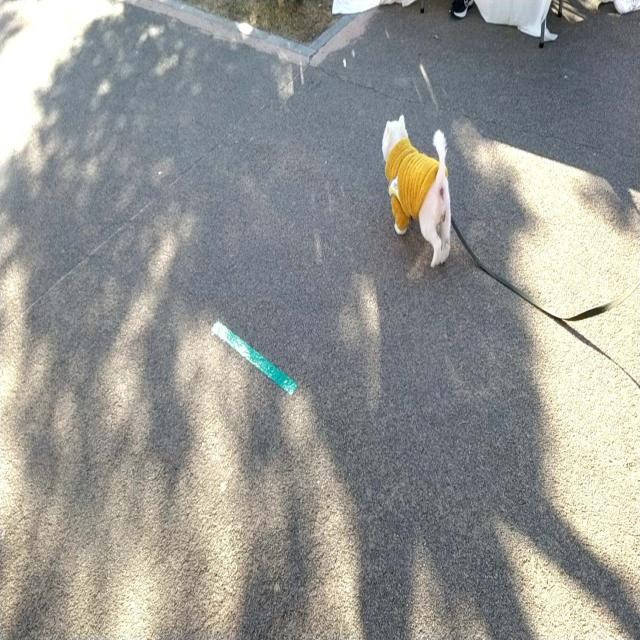Dog: (382, 114, 451, 267)
